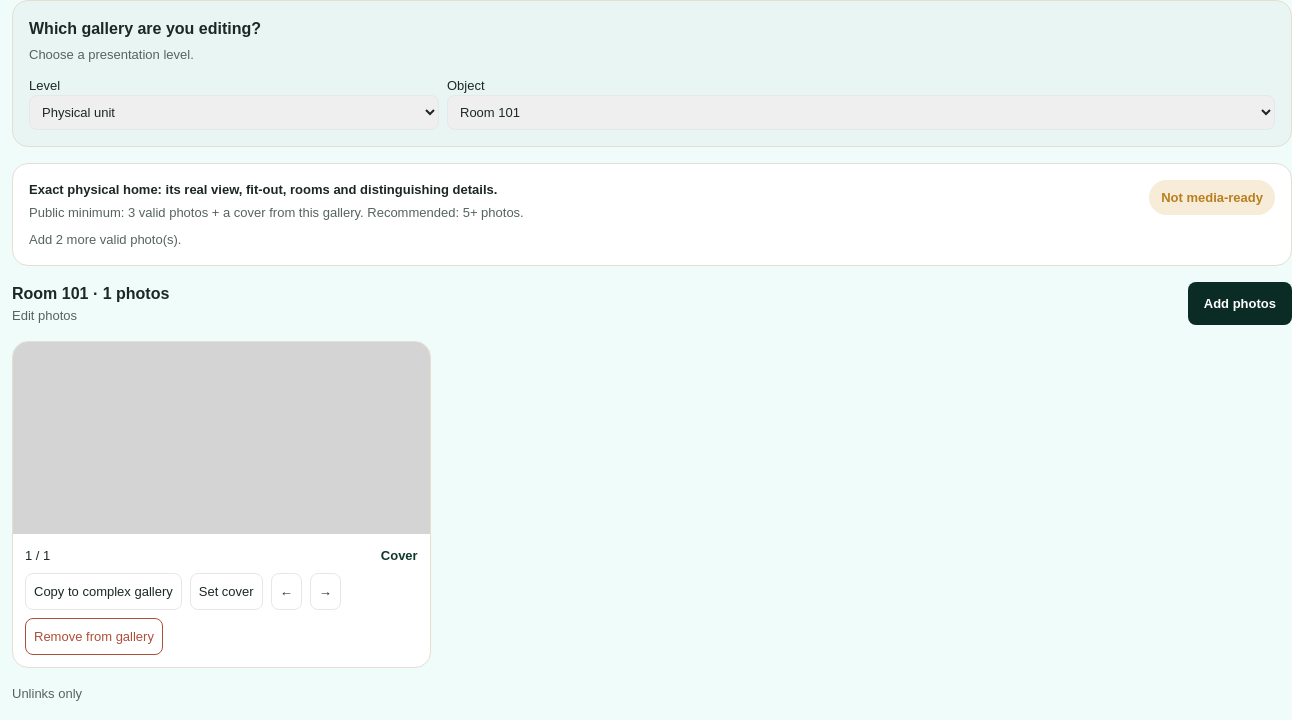
copy existing unit photo to its parent complex › allows a safe same-asset retry when read-back is missing
Click the button "Copy to complex gallery" at coordinates (103, 592), box top-left (25, 573), bottom-right (182, 610)
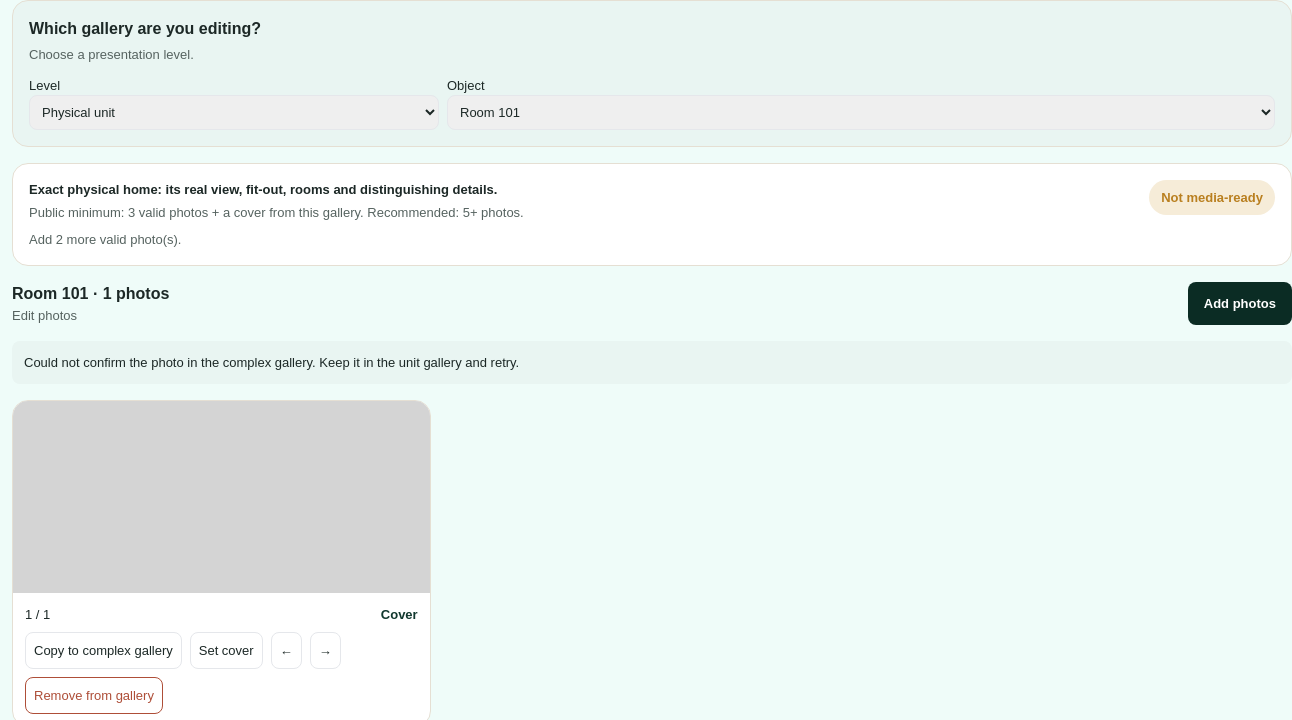
Result: the text "Could not confirm the photo in the complex gallery. Keep it in the unit gallery and retry." is shown at top-left (24, 355), bottom-right (519, 370)
Click the button "Copy to complex gallery" at coordinates (103, 650), box top-left (25, 632), bottom-right (182, 669)
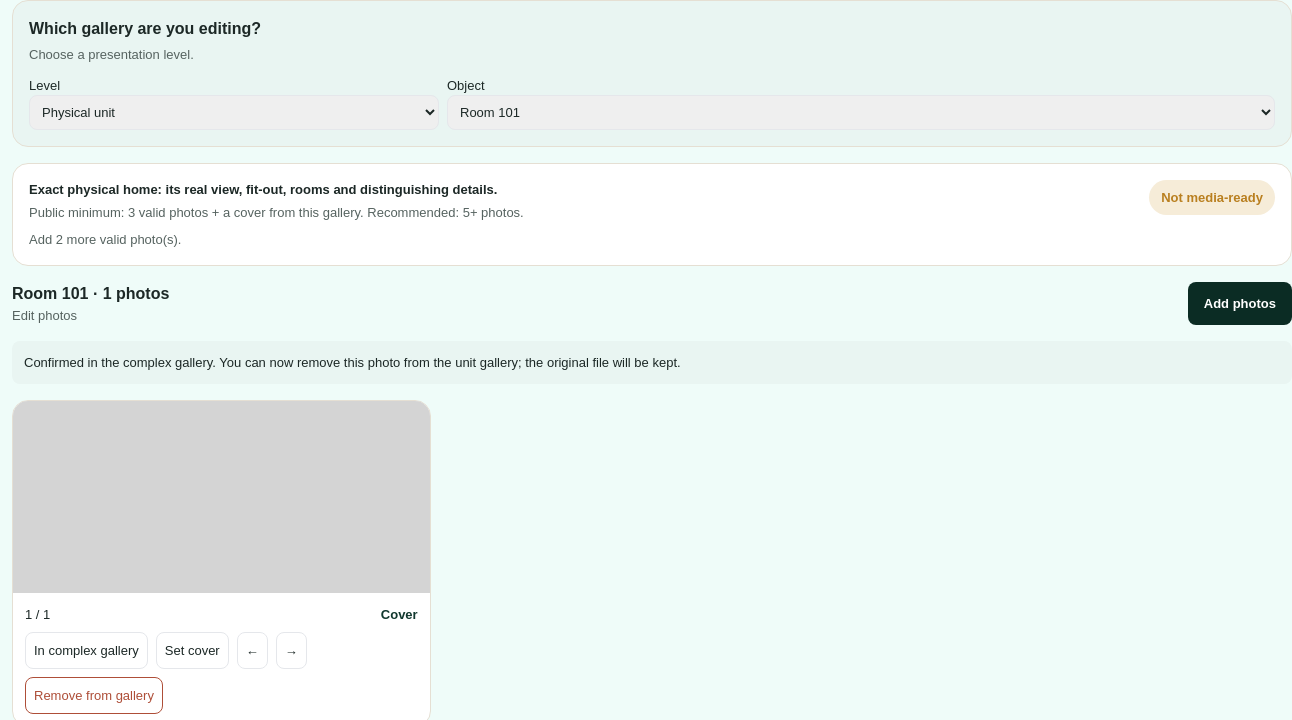
Result: the text "Confirmed in the complex gallery. You can now remove this photo from the unit gallery; the original file will be kept." is shown at top-left (24, 355), bottom-right (681, 370)
